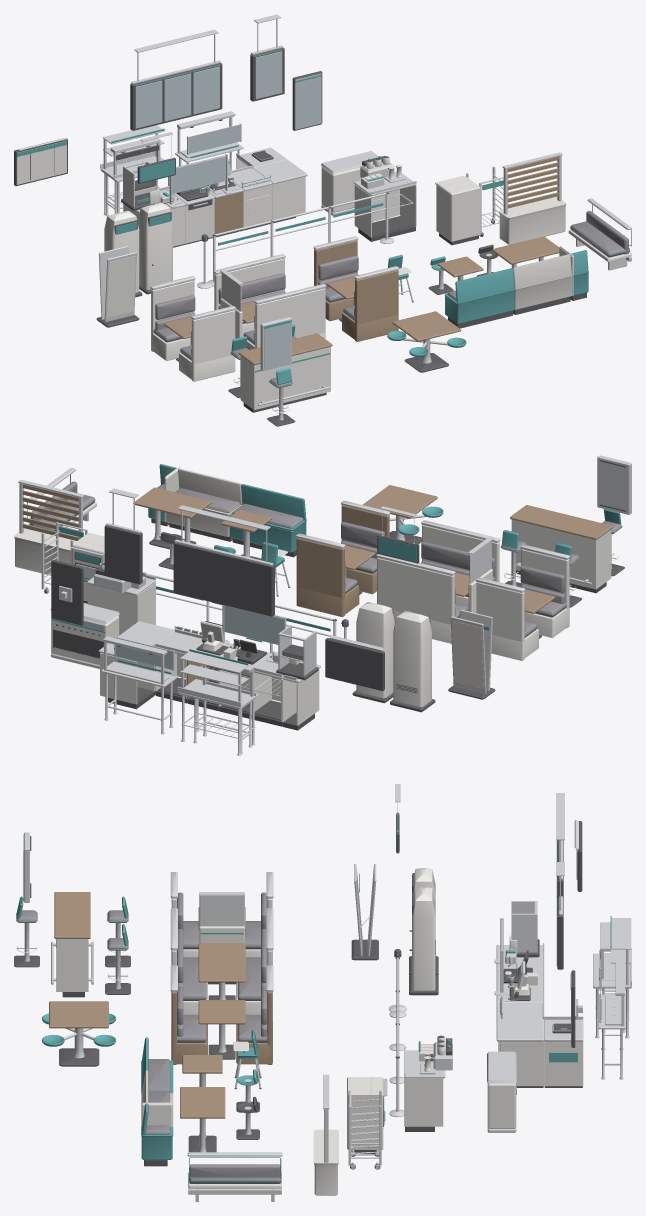
The model's file is fast-food-and-drive-thru-qsr-customer-si-67fc8aa5-starter-scene__16228.glb.
3 views of the same model, one above another, from view 1: azimuth 30°, elevation 25°; view 2: azimuth 150°, elevation 25°; view 3: azimuth 270°, elevation 25° (orthographic). The views are drawn at different scales.
Parts seen in each view (by area): view 1: 036-fixed-booth-2-seat/0, 038-fixed-booth-2-seat-timber/0, 037-fixed-booth-4-seat/0, 019-menu-board-triple/1, 048-bar-height-counter/1, 040-moulded-bench-run/1, 034-waste-unit-with-flap/1, 041-moulded-bench-run-neutral/1, 025-self-order-kiosk-floor/1, 054-planter-divider/0, 031-condiment-island/1, 054-planter-divider/3 (+38 smaller); view 2: 037-fixed-booth-4-seat/0, 019-menu-board-triple/0, 038-fixed-booth-2-seat-timber/0, 036-fixed-booth-2-seat/0, 024-self-order-kiosk-floor/1, 048-bar-height-counter/1, 007-counter-back-shelf-unit/0, 040-moulded-bench-run/1, 023-wall-menu-panel/0, 008-pass-through-heated-shelf/0, 041-moulded-bench-run-neutral/1, 025-self-order-kiosk-floor/1 (+47 smaller); view 3: 025-self-order-kiosk-floor/1, 037-fixed-booth-4-seat/2, 034-waste-unit-with-flap/1, 031-condiment-island/1, 038-fixed-booth-2-seat-timber/2, 037-fixed-booth-4-seat/5, 007-counter-back-shelf-unit/0, 053-wall-bench-with-cushion/2, 008-pass-through-heated-shelf/0, 048-bar-height-counter/1, 048-bar-height-counter/3, 038-fixed-booth-2-seat-timber/0 (+28 smaller).
Boxes of the visible parts, x1,y1,x2,y2 form: 036-fixed-booth-2-seat/0: [151, 280, 235, 381]; 038-fixed-booth-2-seat-timber/0: [314, 240, 398, 341]; 037-fixed-booth-4-seat/0: [214, 258, 325, 349]; 019-menu-board-triple/1: [135, 66, 219, 128]; 048-bar-height-counter/1: [240, 346, 330, 409]; 040-moulded-bench-run/1: [444, 268, 514, 323]; 034-waste-unit-with-flap/1: [436, 176, 480, 241]; 041-moulded-bench-run-neutral/1: [513, 254, 572, 309]; 025-self-order-kiosk-floor/1: [138, 202, 172, 289]; 054-planter-divider/0: [499, 196, 566, 244]; 031-condiment-island/1: [354, 164, 416, 237]; 054-planter-divider/3: [507, 156, 558, 208]; 037-fixed-booth-4-seat/0: [377, 525, 499, 643]; 019-menu-board-triple/0: [173, 542, 274, 616]; 038-fixed-booth-2-seat-timber/0: [296, 505, 389, 617]; 036-fixed-booth-2-seat/0: [476, 549, 569, 660]; 024-self-order-kiosk-floor/1: [393, 611, 431, 707]; 048-bar-height-counter/1: [511, 519, 611, 589]; 007-counter-back-shelf-unit/0: [177, 651, 258, 755]; 040-moulded-bench-run/1: [229, 484, 306, 552]; 023-wall-menu-panel/0: [325, 638, 384, 691]; 008-pass-through-heated-shelf/0: [101, 636, 176, 734]; 041-moulded-bench-run-neutral/1: [166, 468, 242, 537]; 025-self-order-kiosk-floor/1: [356, 602, 394, 698]; 025-self-order-kiosk-floor/1: [412, 887, 435, 990]; 037-fixed-booth-4-seat/2: [177, 928, 267, 1000]; 034-waste-unit-with-flap/1: [347, 1077, 383, 1149]; 031-condiment-island/1: [404, 1045, 443, 1126]; 038-fixed-booth-2-seat-timber/2: [177, 986, 267, 1042]; 037-fixed-booth-4-seat/5: [198, 943, 245, 982]; 007-counter-back-shelf-unit/0: [593, 918, 631, 1038]; 053-wall-bench-with-cushion/2: [189, 1164, 281, 1183]; 008-pass-through-heated-shelf/0: [598, 962, 625, 1079]; 048-bar-height-counter/1: [56, 939, 88, 991]; 048-bar-height-counter/3: [54, 892, 90, 938]; 038-fixed-booth-2-seat-timber/0: [171, 992, 272, 1064].
Size of the model in its own units: 9.5 by 3.67 by 9.5.
